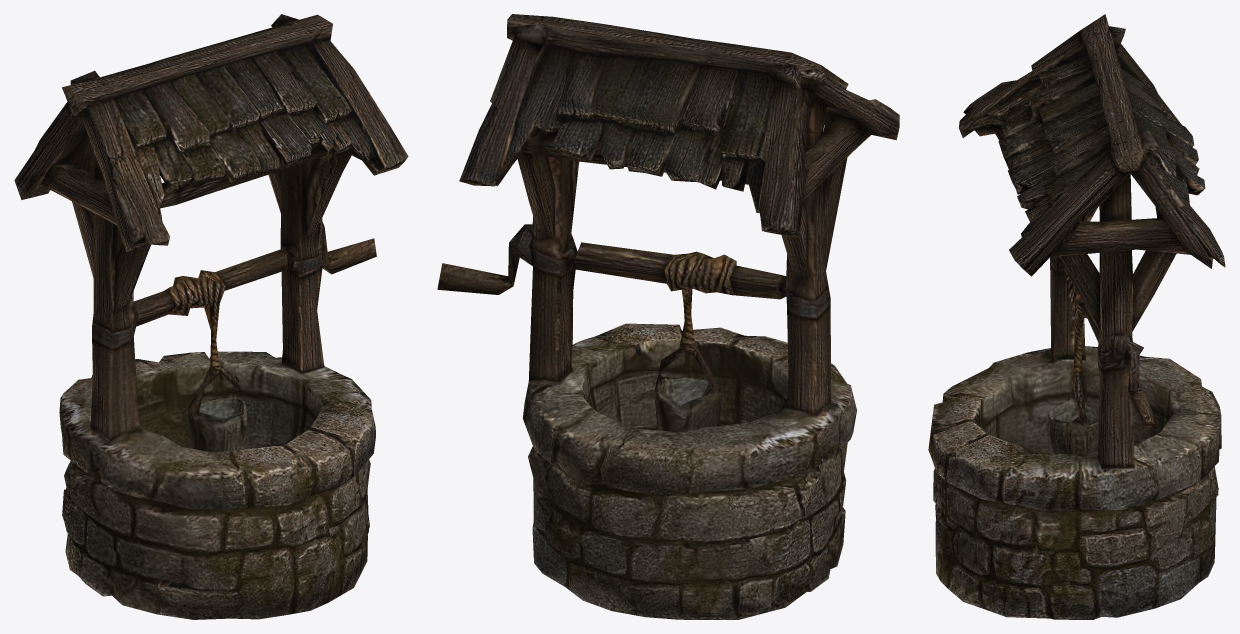
Rendered from well.glb.
3 views of the same model, side by side, from view 1: azimuth 30°, elevation 25°; view 2: azimuth 150°, elevation 25°; view 3: azimuth 270°, elevation 25° (orthographic). The views are drawn at different scales.
Bounding box in the file's own units: 0.7158 × 1 × 0.553.
Materials: 1 (1 with a texture image).
